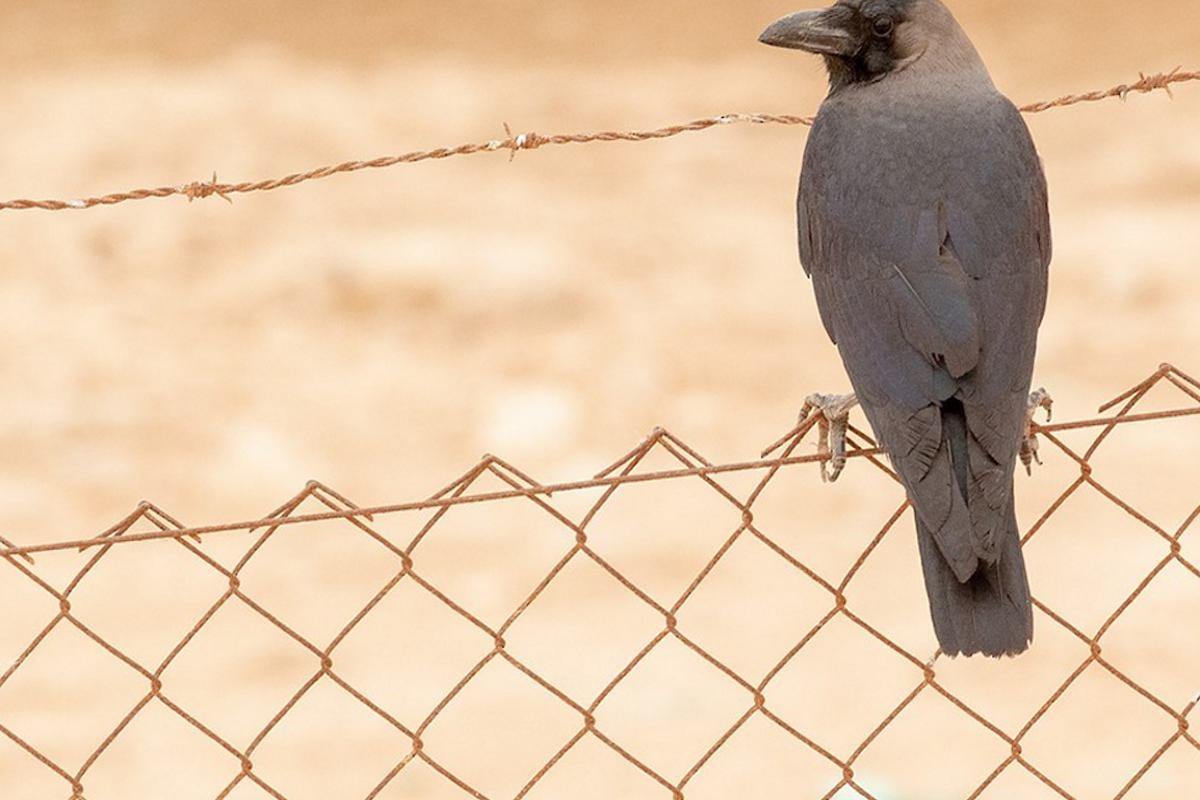crow: (715, 1, 1097, 671)
